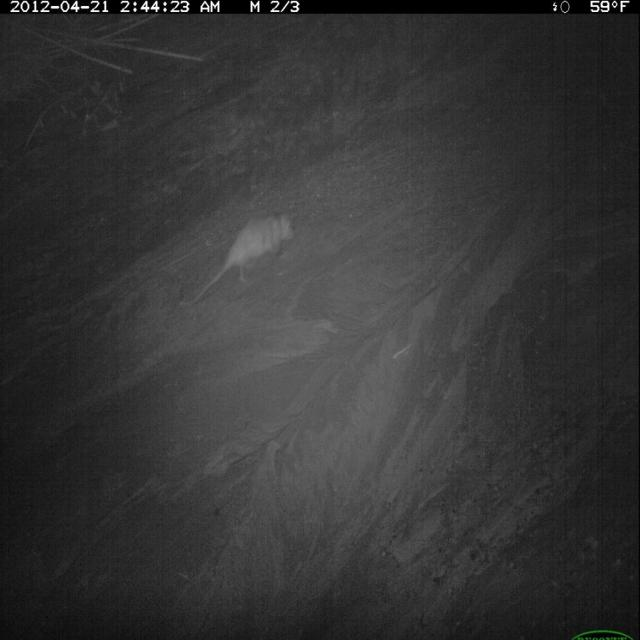opossum: (188, 207, 298, 315)
